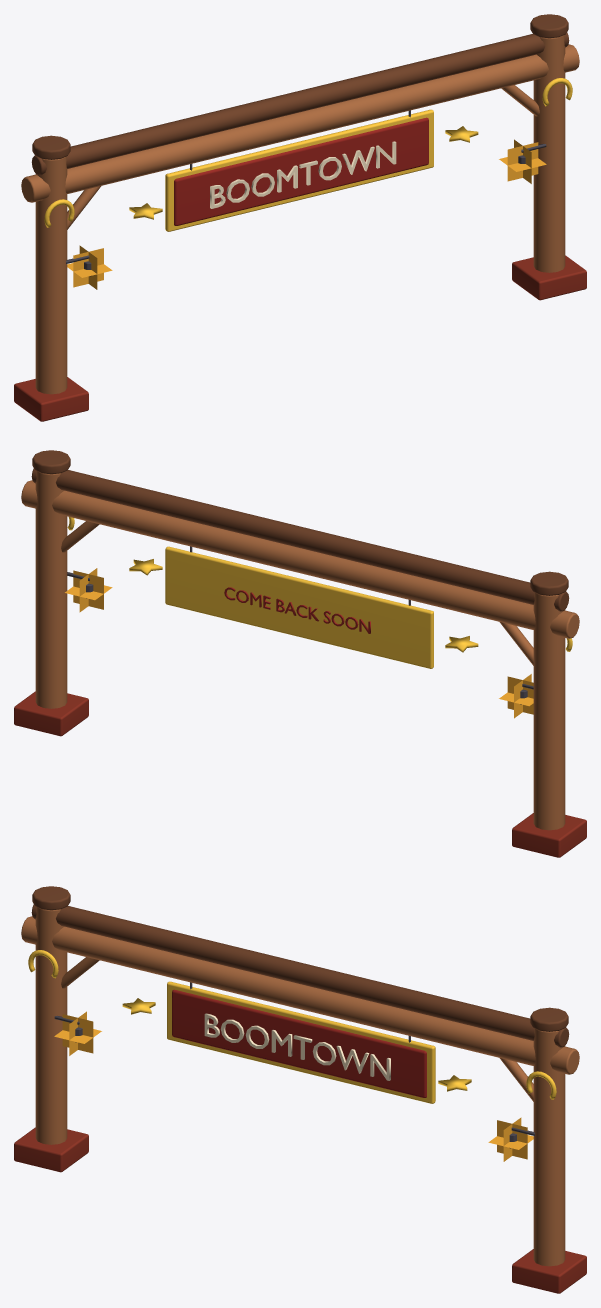
The model's file is gulch_gate.glb.
The picture shows the model from 3 angles, top to bottom: view 1: azimuth 30°, elevation 25°; view 2: azimuth 150°, elevation 25°; view 3: azimuth 330°, elevation 25°; orthographic projection.
Parts seen in each view (by area): view 1: Gate; view 2: Gate; view 3: Gate.
Boxes of the visible parts, box(x1,y1,x2,y2) form: Gate: box(14, 14, 586, 421); Gate: box(14, 450, 586, 857); Gate: box(14, 886, 586, 1293).
Size of the model in its own units: 18 by 8.3 by 1.6.
